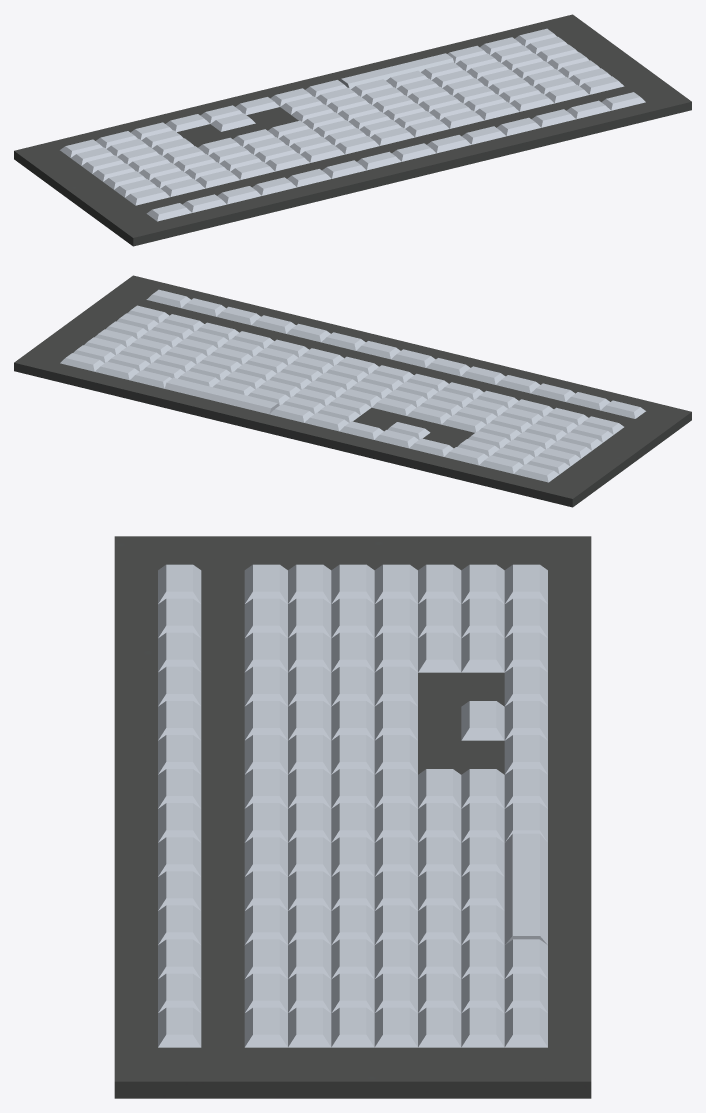
The model's file is Keyboard.fbx.
The picture shows the model from 3 angles, top to bottom: view 1: azimuth 30°, elevation 25°; view 2: azimuth 150°, elevation 25°; view 3: azimuth 270°, elevation 25°; orthographic projection. The views are drawn at different scales.
Visible parts, largest first — view 1: Keyboard; view 2: Keyboard; view 3: Keyboard.
Boxes of the visible parts, <box> form: Keyboard: <box>14,14,691,246</box>; Keyboard: <box>14,275,691,507</box>; Keyboard: <box>114,536,591,1098</box>.
Size of the model in its own units: 0.6238 by 0.0141 by 0.2305.
